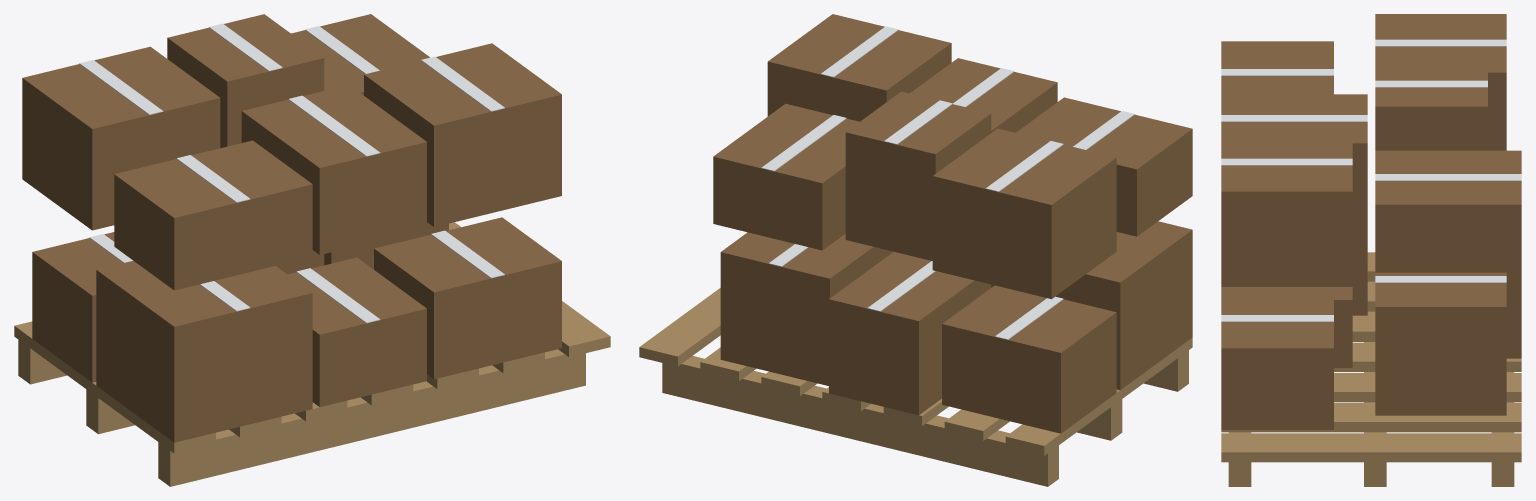
The model's file is prop_pallet_boxes.glb.
3 views of the same model, side by side, from view 1: azimuth 30°, elevation 25°; view 2: azimuth 150°, elevation 25°; view 3: azimuth 270°, elevation 25° (orthographic). The views are drawn at different scales.
Visible parts, largest first — view 1: prop_pallet_boxes; view 2: prop_pallet_boxes; view 3: prop_pallet_boxes.
Part boxes in pixels (x1,y1,x2,y2): prop_pallet_boxes: (14,14,610,486); prop_pallet_boxes: (639,14,1192,486); prop_pallet_boxes: (1221,14,1521,486).
Size of what is drawn, in the model's own units: 1.26 by 0.872 by 0.8.
